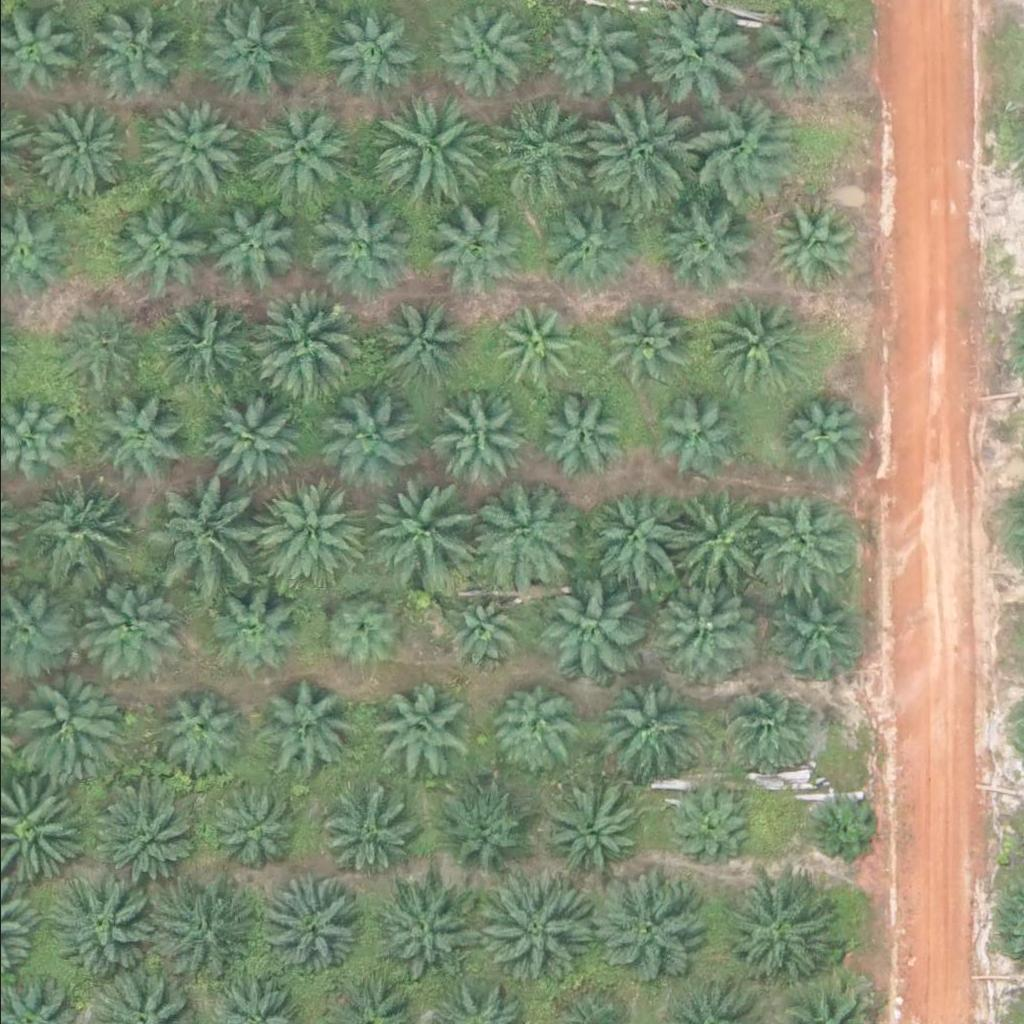Kelapa_Sawit: (90, 776, 204, 889), (471, 868, 585, 981), (42, 870, 156, 983), (375, 92, 488, 205), (675, 90, 788, 203), (251, 288, 364, 401), (742, 487, 855, 600), (365, 476, 478, 589), (252, 473, 365, 586), (589, 868, 702, 981), (149, 873, 262, 986), (577, 93, 691, 205), (481, 94, 595, 206), (141, 480, 255, 592), (242, 99, 355, 211), (468, 470, 581, 582), (722, 871, 835, 983), (749, 4, 850, 104), (24, 98, 125, 198), (144, 96, 245, 196), (541, 197, 642, 297), (309, 193, 410, 293), (108, 196, 209, 296), (53, 298, 154, 398), (703, 294, 804, 394), (150, 300, 251, 400), (423, 385, 524, 485), (314, 390, 415, 490), (197, 394, 298, 494), (85, 387, 186, 487), (656, 491, 757, 591), (586, 491, 687, 591), (21, 478, 122, 578), (73, 573, 174, 673), (651, 579, 752, 679), (759, 580, 860, 680), (22, 666, 123, 766), (543, 779, 644, 879), (364, 877, 465, 977), (255, 879, 356, 979), (195, 6, 295, 106), (82, 2, 182, 102), (649, 196, 749, 296), (542, 582, 642, 682), (594, 677, 694, 777), (377, 680, 477, 780), (261, 678, 361, 778), (205, 776, 305, 876), (318, 783, 418, 883), (426, 782, 526, 882), (484, 298, 573, 386), (662, 784, 751, 872), (434, 11, 522, 99), (759, 198, 847, 286), (198, 204, 286, 292), (591, 302, 679, 390), (647, 391, 735, 479), (310, 585, 398, 673), (434, 589, 522, 677), (489, 678, 577, 766), (773, 389, 862, 476), (204, 583, 293, 670), (328, 10, 416, 97), (423, 203, 511, 290), (369, 296, 457, 383), (531, 390, 619, 477), (716, 685, 804, 772), (156, 686, 244, 773), (802, 791, 877, 866)
